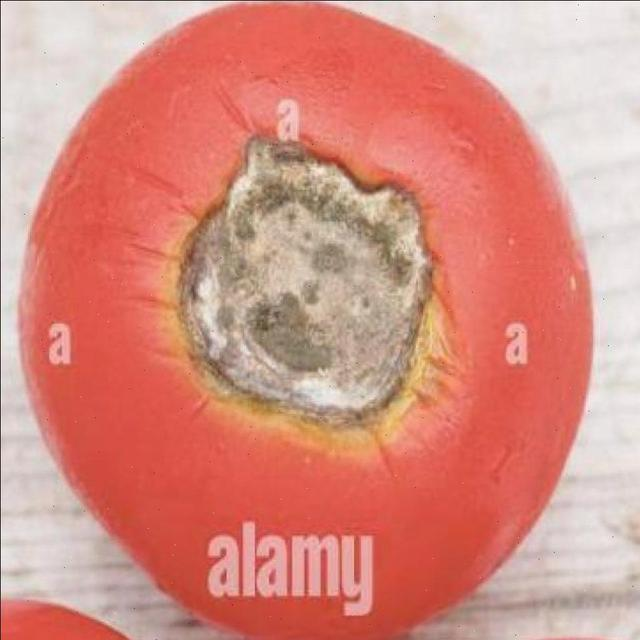Blossom End Rot Fruit: (110, 84, 295, 286)
